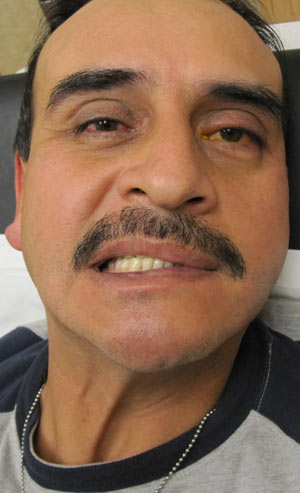stroke: (44, 44, 286, 347)
